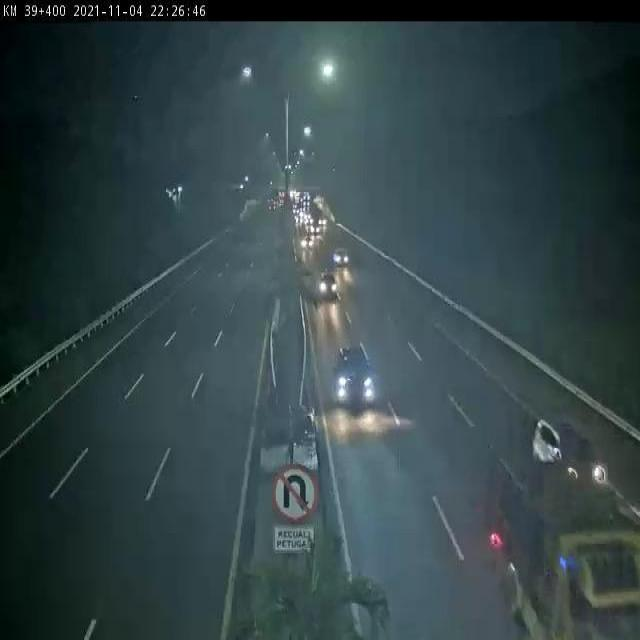car: (534, 393, 616, 500), (324, 327, 396, 424), (312, 263, 346, 301), (328, 245, 361, 275), (299, 229, 315, 251)
truck-m-: (484, 445, 640, 640)
